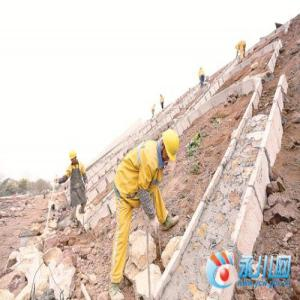yellow: (159, 128, 180, 167), (70, 149, 78, 166)
